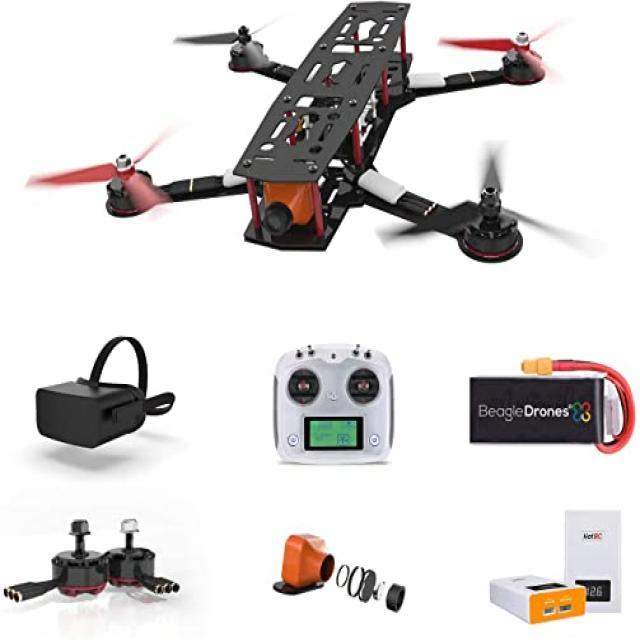drone: (23, 9, 640, 327)
